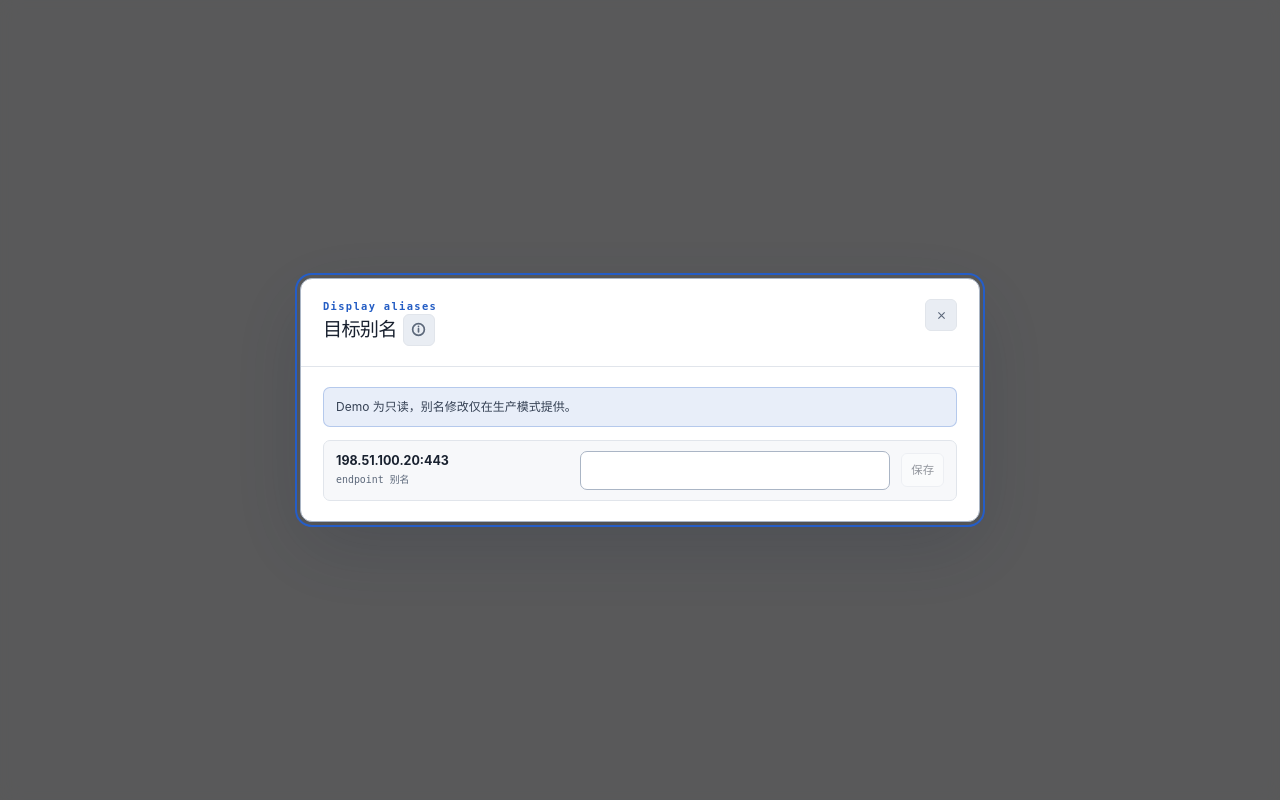
Test: AliasDialog › moves the header description into the shared tooltip
Expected: the element with class "dialog-body" is shown, [301,367,979,521]
Expected: the element with class "alias-identity" is shown, [336,454,449,485]
Hover over the button named "查看“目标别名”说明": (419, 330) [403,314,435,346]
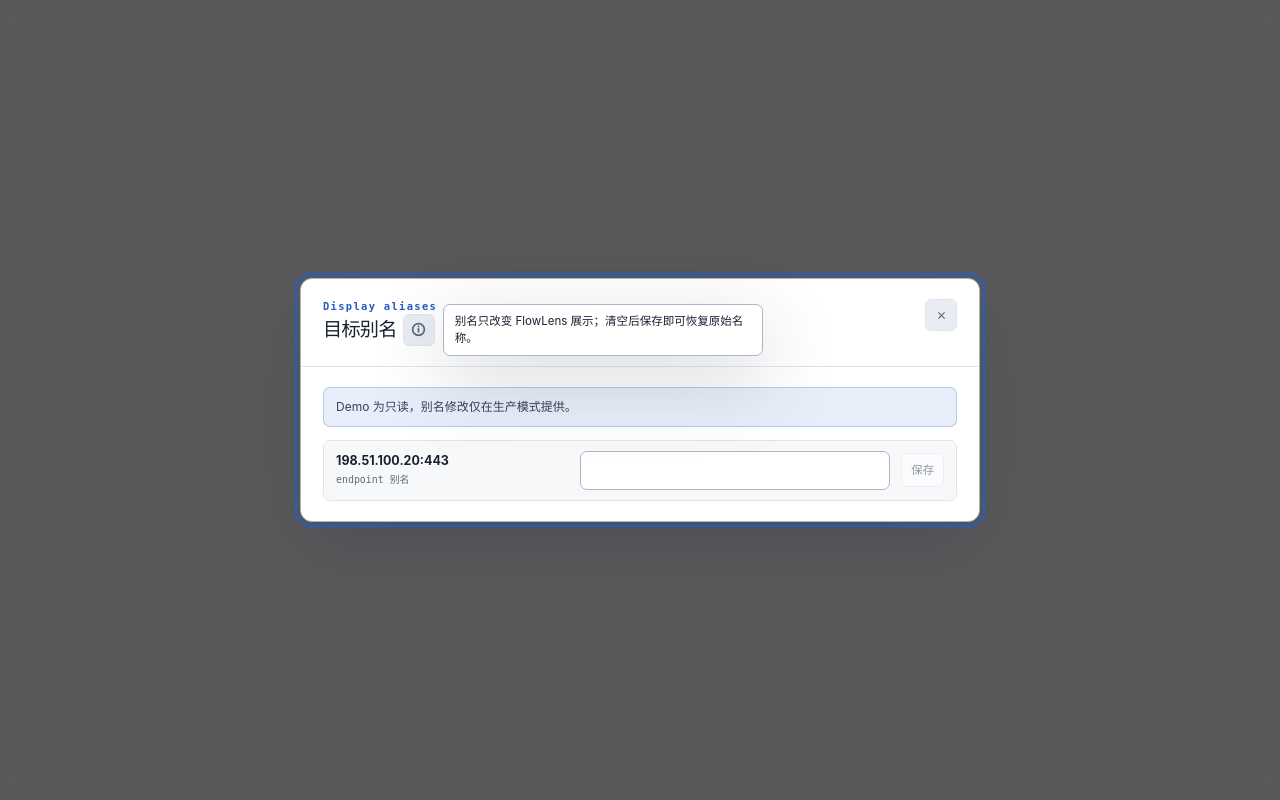
Now the tooltip reads "别名只改变 FlowLens 展示；清空后保存即可恢复原始名称。", box [455,314,743,345]
